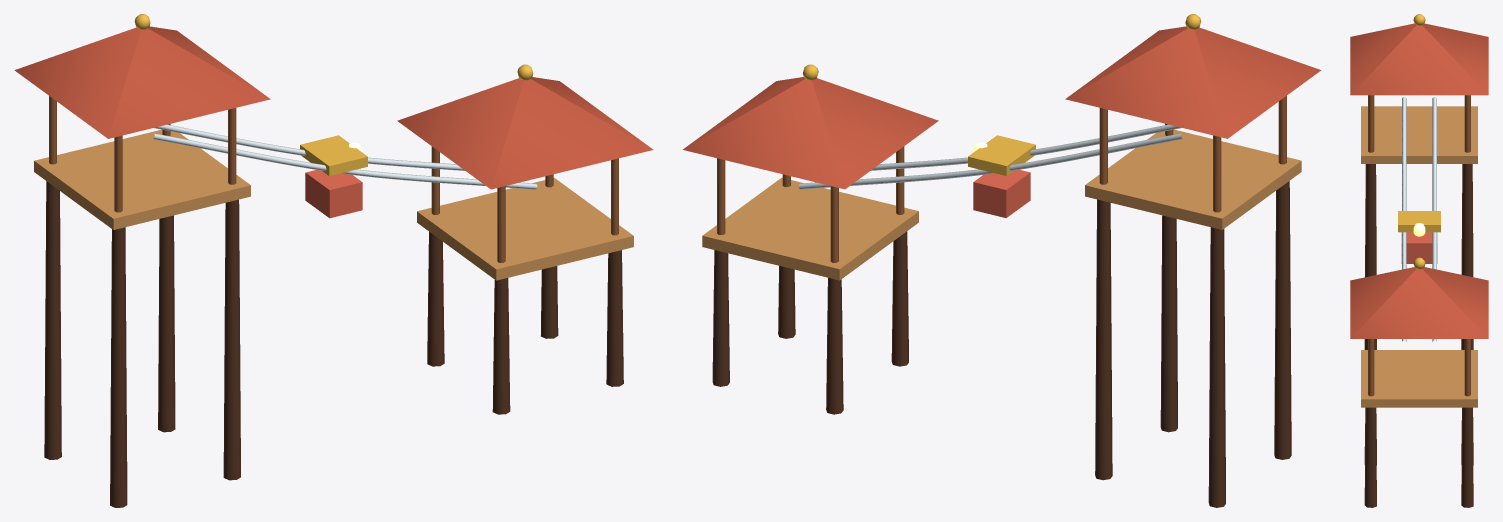
Rendered from zipline-adventure.glb.
3 views of the same model, side by side, from view 1: azimuth 30°, elevation 25°; view 2: azimuth 150°, elevation 25°; view 3: azimuth 270°, elevation 25° (orthographic). The views are drawn at different scales.
Parts seen in each view (by area): view 1: Mesh_terracotta, Mesh_darkWood, Mesh_lightWood, Mesh_wood, Mesh_chrome, Mesh_coral, Mesh_gold; view 2: Mesh_terracotta, Mesh_darkWood, Mesh_lightWood, Mesh_wood, Mesh_chrome, Mesh_coral, Mesh_gold; view 3: Mesh_terracotta, Mesh_lightWood, Mesh_darkWood, Mesh_wood, Mesh_chrome, Mesh_gold (×2), Mesh_coral.
Boxes of the visible parts, x1=… form: Mesh_terracotta: x1=14, y1=26, x2=653, y2=189; Mesh_darkWood: x1=44, y1=181, x2=623, y2=507; Mesh_lightWood: x1=34, y1=129, x2=633, y2=280; Mesh_wood: x1=49, y1=96, x2=618, y2=262; Mesh_chrome: x1=153, y1=124, x2=537, y2=189; Mesh_coral: x1=305, y1=170, x2=362, y2=218; Mesh_gold: x1=300, y1=135, x2=367, y2=176; Mesh_terracotta: x1=683, y1=26, x2=1321, y2=189; Mesh_darkWood: x1=712, y1=181, x2=1291, y2=507; Mesh_lightWood: x1=702, y1=129, x2=1301, y2=280; Mesh_wood: x1=717, y1=96, x2=1286, y2=262; Mesh_chrome: x1=798, y1=124, x2=1182, y2=189; Mesh_coral: x1=973, y1=169, x2=1030, y2=218; Mesh_gold: x1=968, y1=135, x2=1035, y2=175; Mesh_terracotta: x1=1350, y1=23, x2=1488, y2=338; Mesh_lightWood: x1=1361, y1=106, x2=1477, y2=407; Mesh_darkWood: x1=1364, y1=164, x2=1473, y2=507; Mesh_wood: x1=1368, y1=95, x2=1470, y2=396; Mesh_chrome: x1=1402, y1=97, x2=1436, y2=341; Mesh_gold (×2): x1=1398, y1=14, x2=1440, y2=269; Mesh_coral: x1=1401, y1=232, x2=1437, y2=263.
Size of the model in its own units: 9.12 by 7.22 by 2.72.
